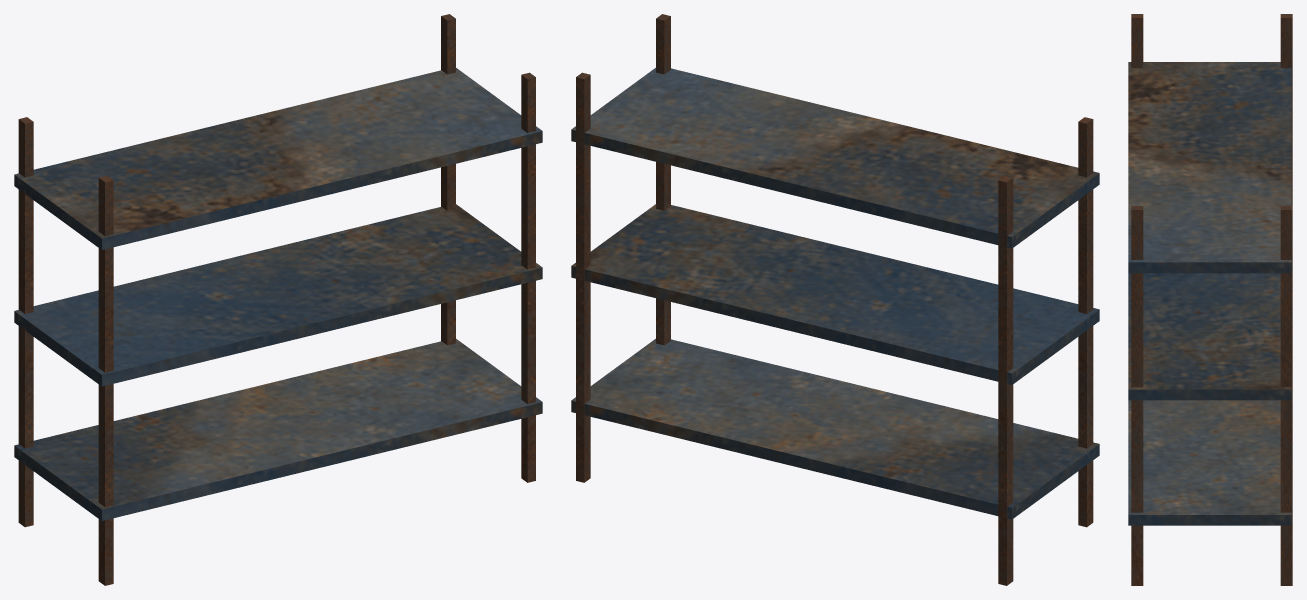
The model's file is Shelving.fbx.
The picture shows the model from 3 angles, left to right: view 1: azimuth 30°, elevation 25°; view 2: azimuth 150°, elevation 25°; view 3: azimuth 270°, elevation 25°; orthographic projection. The views are drawn at different scales.
Parts seen in each view (by area): view 1: Shelving; view 2: Shelving; view 3: Shelving.
Boxes of the visible parts, left/top/right/bottom form: Shelving: left=14, top=14, right=542, bottom=585; Shelving: left=571, top=14, right=1099, bottom=585; Shelving: left=1128, top=14, right=1292, bottom=585.
Bounding box in the file's own units: 6.52 × 5.7 × 2.26.
Materials: 2 (2 with a texture image).
